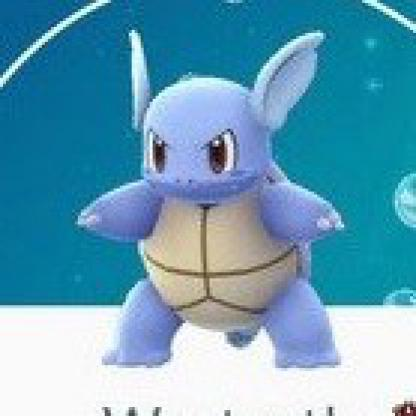Wartortle: (72, 18, 353, 382)
